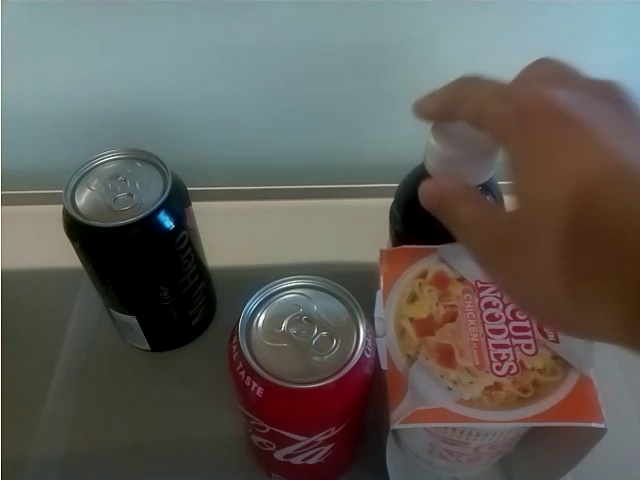cocacola: (56, 142, 220, 356), (230, 269, 365, 480)
hand: (413, 51, 640, 346)
noodles: (375, 246, 609, 478)
